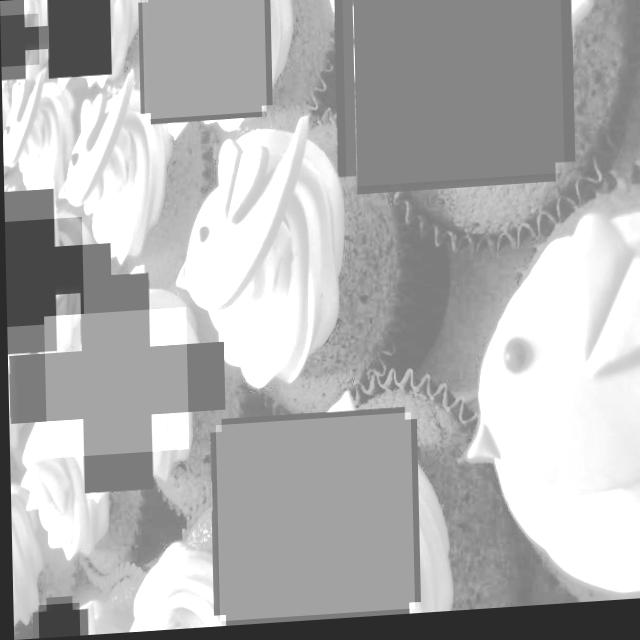qr_code: (342, 0, 564, 191), (214, 417, 412, 623), (43, 309, 187, 458), (143, 0, 267, 120), (4, 217, 83, 326), (47, 0, 111, 79), (0, 13, 39, 66), (36, 603, 77, 639)
